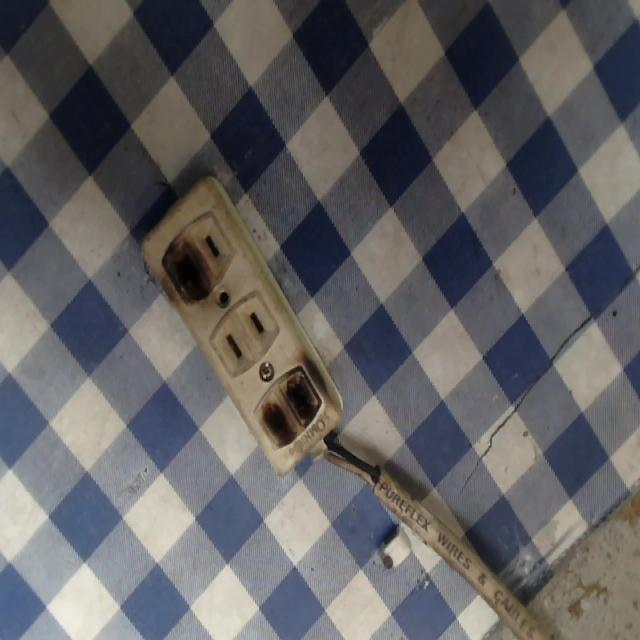-: (256, 346, 333, 454), (158, 229, 218, 308)
